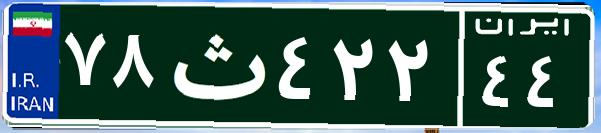2: (385, 28, 445, 110), (330, 28, 385, 110)
4: (273, 28, 330, 110), (475, 38, 525, 113), (525, 38, 570, 115)
7: (57, 26, 110, 107)
8: (110, 28, 158, 105)
ث: (158, 15, 273, 115)
